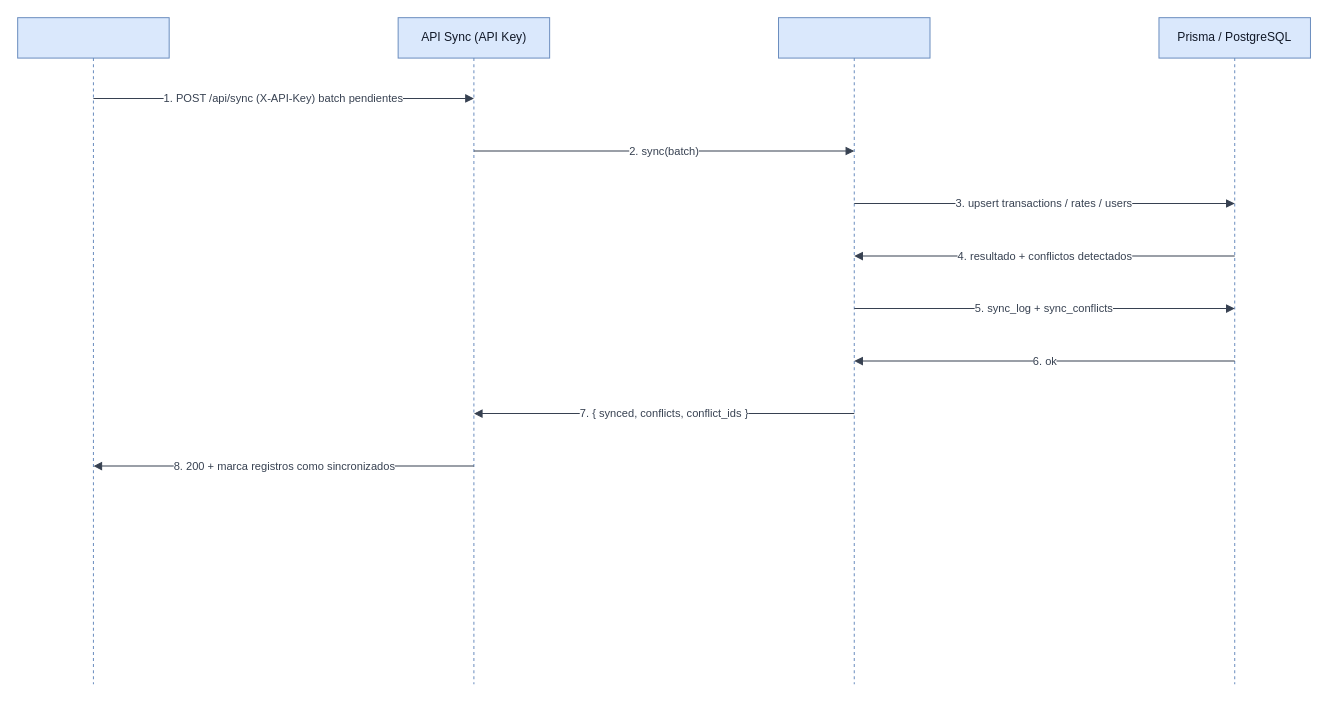
This 1328x702 diagram has some shape labels left out. Each missing label, with the box of its shape:
POS SQLite (offline): (17, 17, 169, 684)
SyncService: (777, 17, 930, 684)
